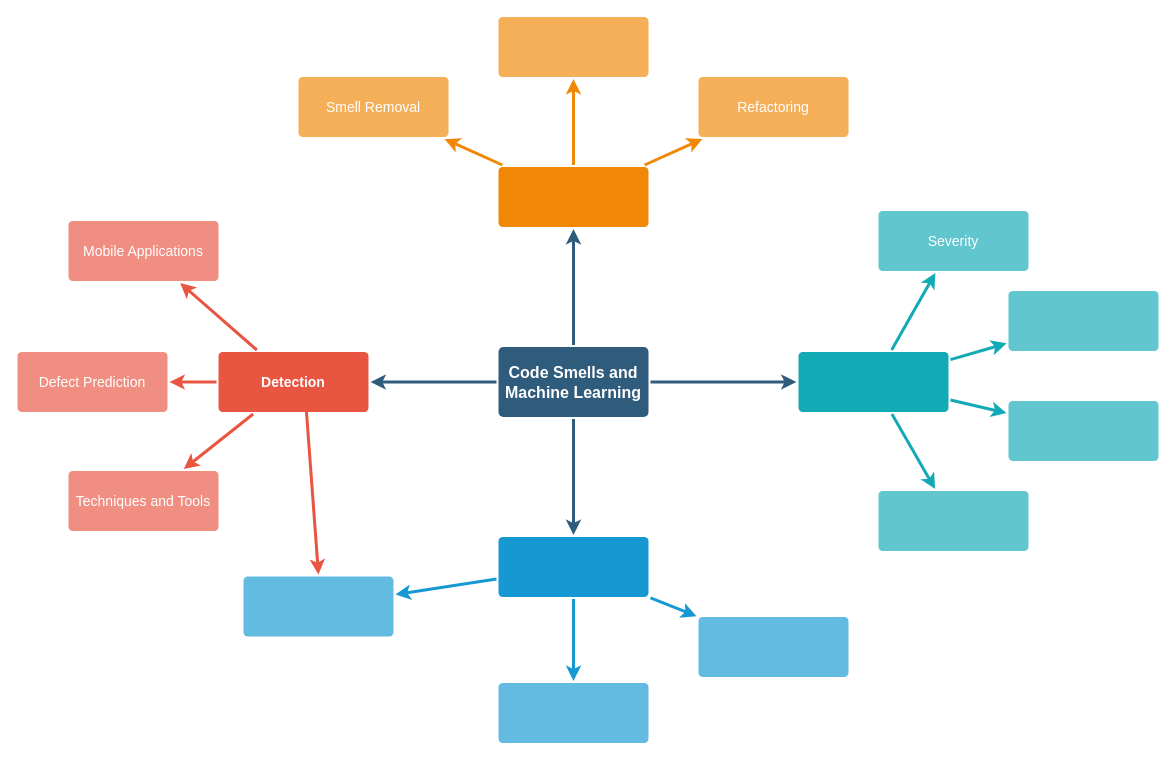
Some shapes in this 1175 by 760 pixel diagram are drawn without their labels. Here are the shapes that lost their labels. From the top down, the box of each, then its label:
(498, 166, 648, 226): Correction
(798, 352, 948, 412): Classification
(498, 536, 648, 596): Improvements
(243, 576, 393, 636): Deep Learning
